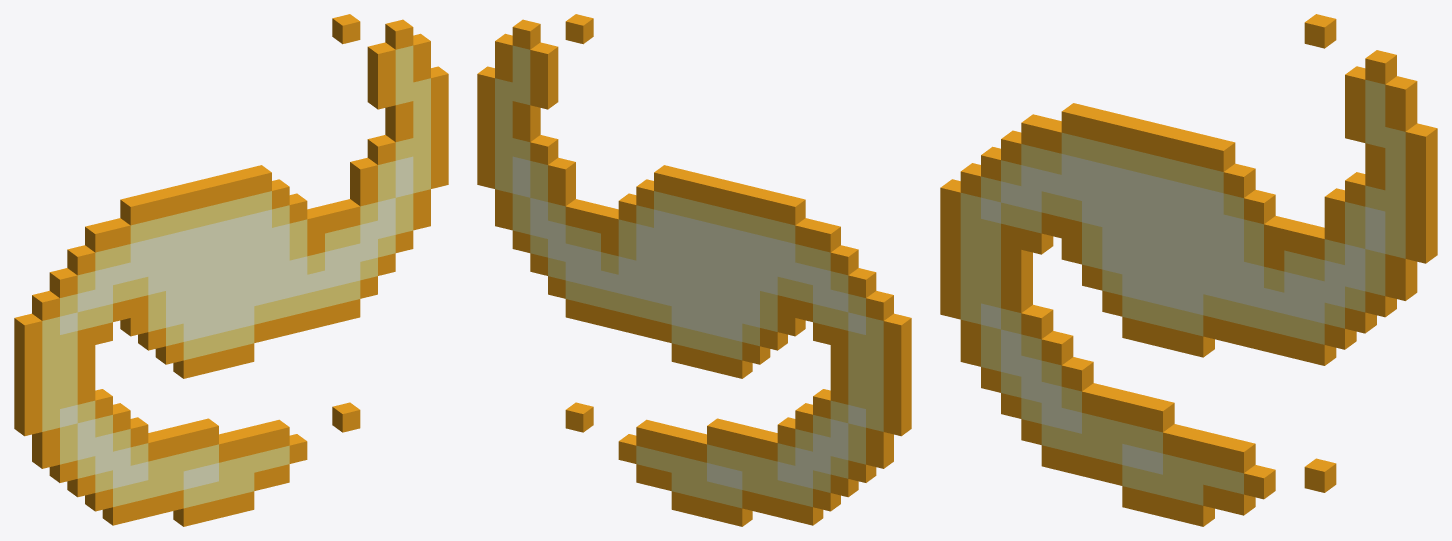
The model's file is Fight_732_2_05_fx.obj.
The picture shows the model from 3 angles, left to right: view 1: azimuth 30°, elevation 25°; view 2: azimuth 150°, elevation 25°; view 3: azimuth 330°, elevation 25°; orthographic projection. The views are drawn at different scales.
Size of the model in its own units: 2.4 by 2.5 by 0.1.
